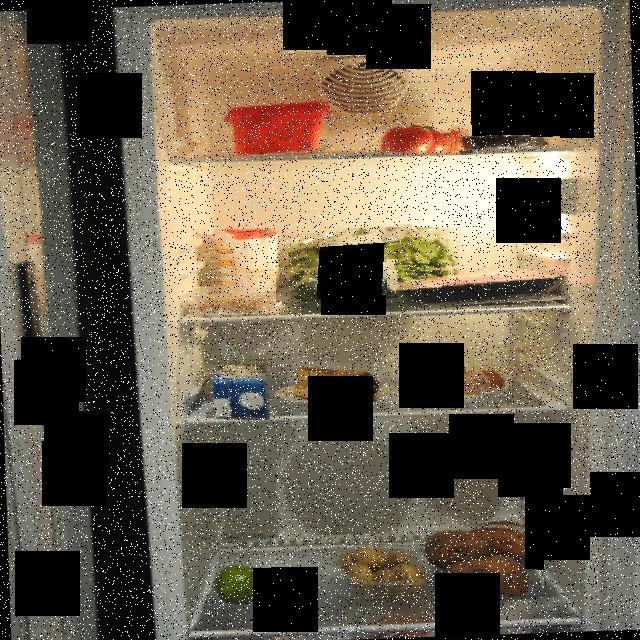apple: (205, 562, 271, 606)
blueberries: (450, 118, 560, 151)
butter: (222, 100, 330, 160)
cheese: (291, 362, 383, 402)
eggs: (422, 356, 512, 404)
ground_beef: (387, 270, 570, 308)
milk: (206, 356, 270, 420)
potato: (337, 542, 425, 599)
spinach: (276, 227, 462, 302)
sugar: (210, 223, 282, 306)
sweet_potato: (420, 518, 544, 596)
tomato: (374, 116, 476, 156)
